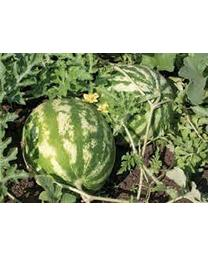watermelon: (21, 97, 114, 192), (90, 64, 172, 140)
